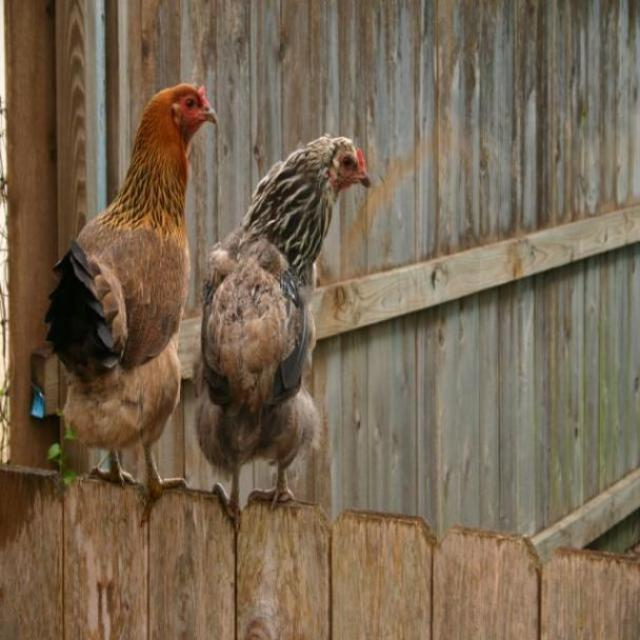Chicken: (51, 72, 213, 542), (191, 132, 374, 532)
